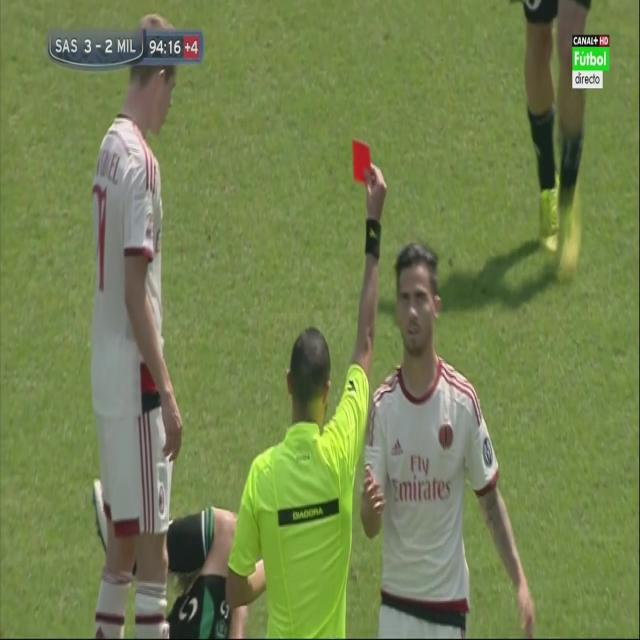Player: (362, 244, 544, 637), (88, 11, 184, 640), (90, 477, 248, 640), (526, 0, 602, 279)
Referee: (226, 150, 388, 638)
